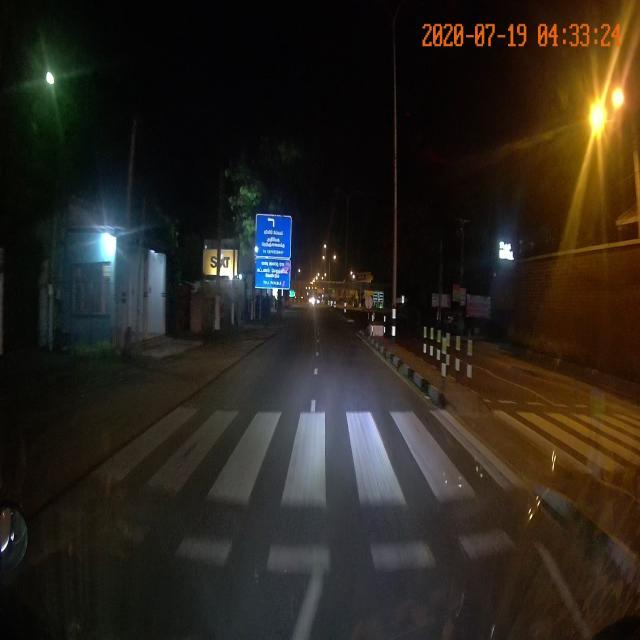Crosswalk: (76, 397, 638, 575)
